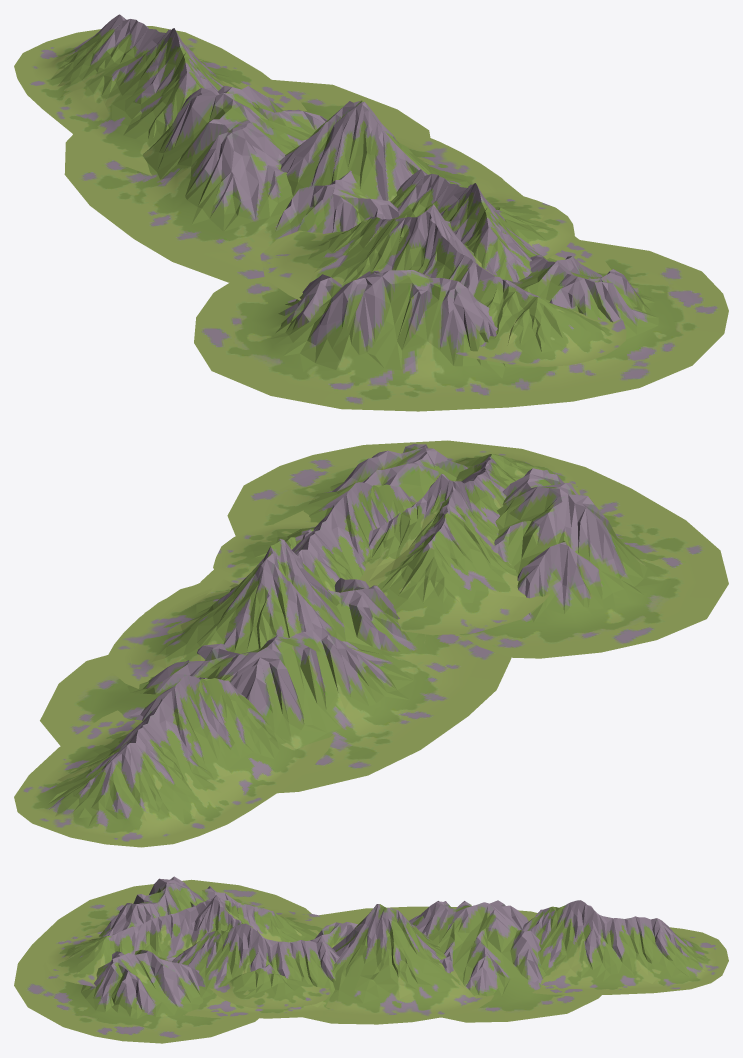
File: build_mountain_F 1.FBX
3 views of the same model, one above another, from view 1: azimuth 30°, elevation 25°; view 2: azimuth 150°, elevation 25°; view 3: azimuth 270°, elevation 25° (orthographic). The views are drawn at different scales.
Parts seen in each view (by area): view 1: mountain_D_grass_LOD0_001, mountain_D_grass_LOD0_0, mountain_A_grass_LOD0_0, mountain_C_grass_LOD0_001, mountain_D_grass_edge_LOD0_001, mountain_B_grass_LOD0_0, mountain_D_grass_edge_LOD0_0, mountain_C_grass_LOD0_0, mountain_C_grass_edge_LOD0_001, mountain_B_grass_edge_LOD0_0; view 2: mountain_D_grass_LOD0_001, mountain_D_grass_LOD0_0, mountain_C_grass_LOD0_001, mountain_A_grass_LOD0_0, mountain_B_grass_LOD0_0, mountain_D_grass_edge_LOD0_001, mountain_D_grass_edge_LOD0_0, mountain_C_grass_LOD0_0, mountain_C_grass_edge_LOD0_001, mountain_B_grass_edge_LOD0_0; view 3: mountain_D_grass_LOD0_001, mountain_A_grass_LOD0_0, mountain_C_grass_LOD0_001, mountain_D_grass_LOD0_0, mountain_B_grass_LOD0_0, mountain_C_grass_LOD0_0, mountain_D_grass_edge_LOD0_001, mountain_D_grass_edge_LOD0_0, mountain_C_grass_edge_LOD0_001, mountain_B_grass_edge_LOD0_0, mountain_C_grass_edge_LOD0_0.
Boxes of the visible parts, bbox=[...] form: mountain_D_grass_LOD0_001: bbox=[223, 255, 697, 398]; mountain_D_grass_LOD0_0: bbox=[96, 85, 399, 274]; mountain_A_grass_LOD0_0: bbox=[260, 192, 626, 366]; mountain_C_grass_LOD0_001: bbox=[30, 14, 288, 164]; mountain_D_grass_edge_LOD0_001: bbox=[194, 240, 728, 411]; mountain_B_grass_LOD0_0: bbox=[279, 100, 497, 201]; mountain_D_grass_edge_LOD0_0: bbox=[64, 80, 522, 282]; mountain_C_grass_LOD0_0: bbox=[390, 169, 595, 282]; mountain_C_grass_edge_LOD0_001: bbox=[14, 26, 306, 175]; mountain_B_grass_edge_LOD0_0: bbox=[386, 127, 515, 193]; mountain_D_grass_LOD0_001: bbox=[260, 444, 696, 645]; mountain_D_grass_LOD0_0: bbox=[67, 578, 478, 775]; mountain_C_grass_LOD0_001: bbox=[31, 675, 313, 839]; mountain_A_grass_LOD0_0: bbox=[213, 450, 580, 635]; mountain_B_grass_LOD0_0: bbox=[123, 539, 345, 682]; mountain_D_grass_edge_LOD0_001: bbox=[227, 440, 728, 658]; mountain_D_grass_edge_LOD0_0: bbox=[40, 586, 511, 793]; mountain_C_grass_LOD0_0: bbox=[210, 482, 416, 593]; mountain_C_grass_edge_LOD0_001: bbox=[14, 710, 334, 847]; mountain_B_grass_edge_LOD0_0: bbox=[107, 583, 425, 688]; mountain_D_grass_LOD0_001: bbox=[36, 876, 274, 1033]; mountain_A_grass_LOD0_0: bbox=[46, 895, 332, 1009]; mountain_C_grass_LOD0_001: bbox=[522, 900, 716, 989]; mountain_D_grass_LOD0_0: bbox=[310, 900, 577, 1013]; mountain_B_grass_LOD0_0: bbox=[323, 904, 482, 1015]; mountain_C_grass_LOD0_0: bbox=[172, 923, 339, 1013]; mountain_D_grass_edge_LOD0_001: bbox=[14, 879, 311, 1043]; mountain_D_grass_edge_LOD0_0: bbox=[303, 906, 601, 1024]; mountain_C_grass_edge_LOD0_001: bbox=[532, 927, 728, 994]; mountain_B_grass_edge_LOD0_0: bbox=[322, 995, 493, 1019]; mountain_C_grass_edge_LOD0_0: bbox=[183, 1010, 336, 1018].
Bounding box in the file's own units: 39.49 × 8.39 × 72.84.
